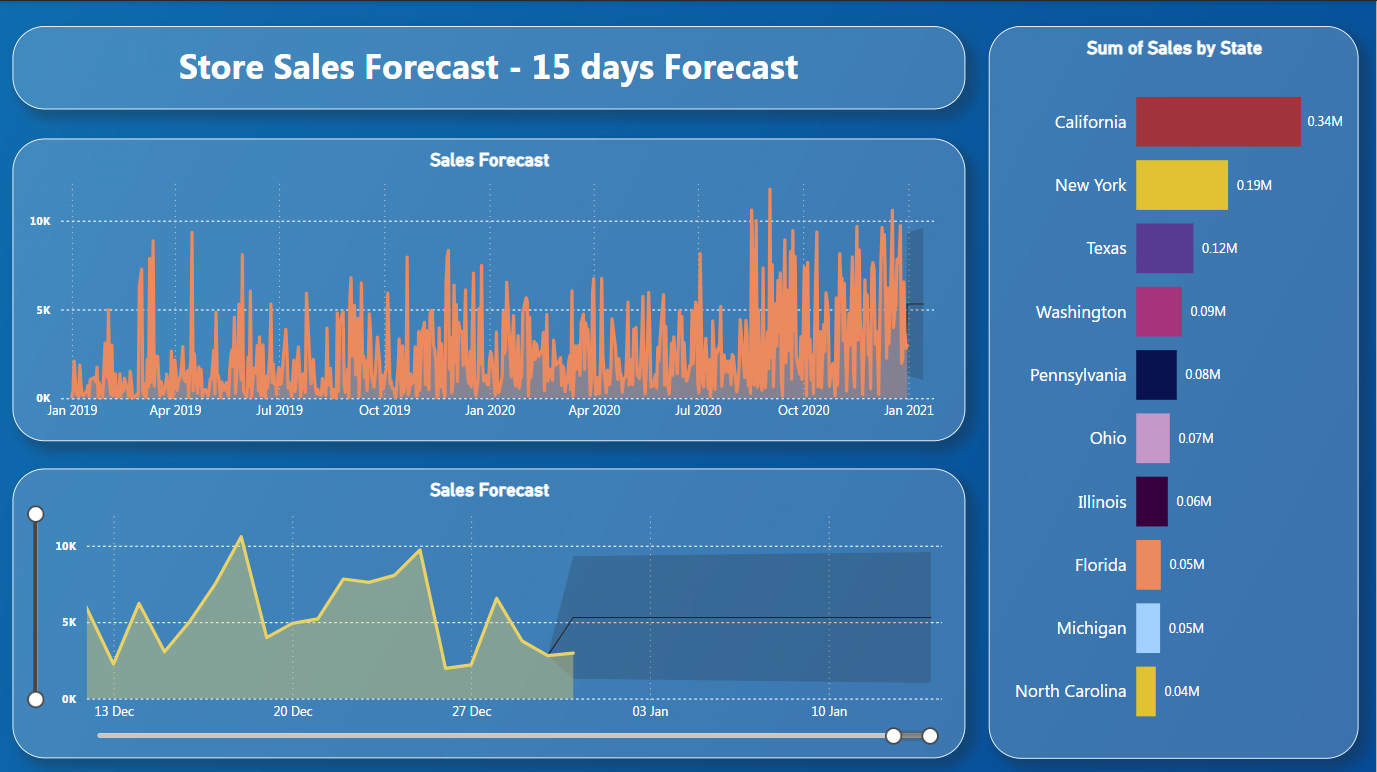

The dashboard page shown, as its layout file describes it:
{"tool":"powerbi","page":{"name":"Page 2","canvas":[1280,720],"ordinal":1},"visuals":[{"type":"lineChart","title":"Sales Forecast","fields":{"Y":["Sum(SuperStore_Sales_Dataset.Sales)"],"Category":["SuperStore_Sales_Dataset.Order Date"]},"box":[11.6,127.9,886,281.4],"z":0},{"type":"lineChart","title":"Sales Forecast","fields":{"Y":["Sum(SuperStore_Sales_Dataset.Sales)"],"Category":["SuperStore_Sales_Dataset.Order Date"]},"box":[11.6,434.9,886,269.8],"z":1000},{"type":"textbox","box":[11.6,23.3,886,77.9],"z":2000},{"type":"barChart","fields":{"Category":["SuperStore_Sales_Dataset.State"],"Y":["Sum(SuperStore_Sales_Dataset.Sales)"]},"box":[919.8,23.3,344.2,681.4],"z":3000}]}

Visuals, with their boxes in screenshot pixels (x1, y1, x2, y2), scaled from the page's 1280x720 canvas onto the 1377x772 screenshot:
"Sales Forecast" lineChart: 12 137 966 439
"Sales Forecast" lineChart: 12 466 966 756
textbox: 12 25 966 109
barChart - SuperStore_Sales_Dataset.State x Sum(SuperStore_Sales_Dataset.Sales): 990 25 1360 756
